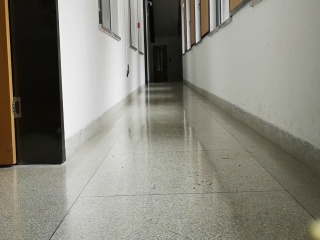room: (1, 3, 70, 171)
